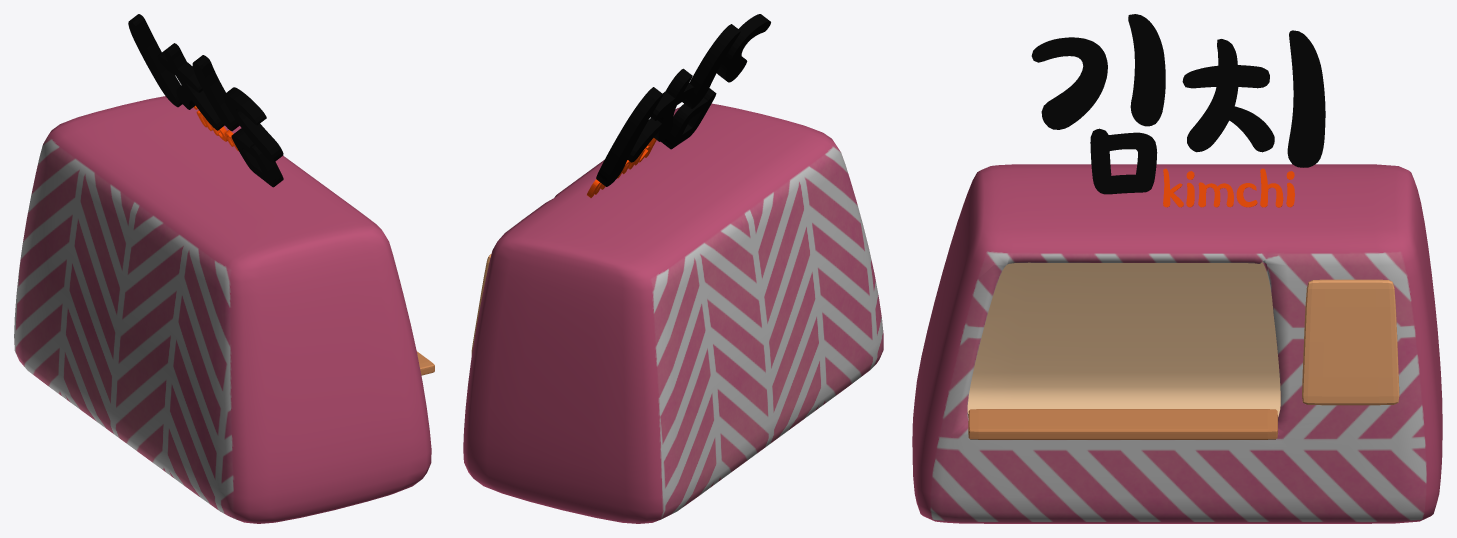
File: Booth 2-1.fbx
The picture shows the model from 3 angles, left to right: view 1: azimuth 30°, elevation 25°; view 2: azimuth 150°, elevation 25°; view 3: azimuth 270°, elevation 25°; orthographic projection. The views are drawn at different scales.
Parts seen in each view (by area): view 1: Cube.007, Text.002; view 2: Cube.007, Text.002; view 3: Cube.007, Text.002, Cube.010, Cube, Text.
Part boxes in pixels (x1,y1,x2,y2): Cube.007: [14, 96, 431, 523]; Text.002: [128, 14, 283, 187]; Cube.007: [463, 103, 883, 523]; Text.002: [596, 14, 770, 186]; Cube.007: [912, 164, 1442, 523]; Text.002: [1031, 14, 1325, 194]; Cube.010: [1302, 279, 1399, 405]; Cube: [968, 409, 1277, 439]; Text: [1163, 168, 1294, 207].
Size of the model in its own units: 1049 by 1781 by 1905.
Materials: 1 (1 with a texture image).
